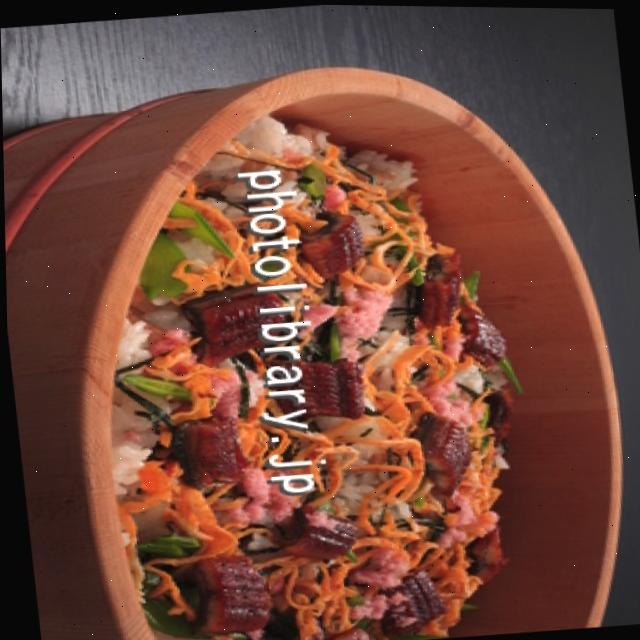寿司卷物: (1, 33, 631, 640)
